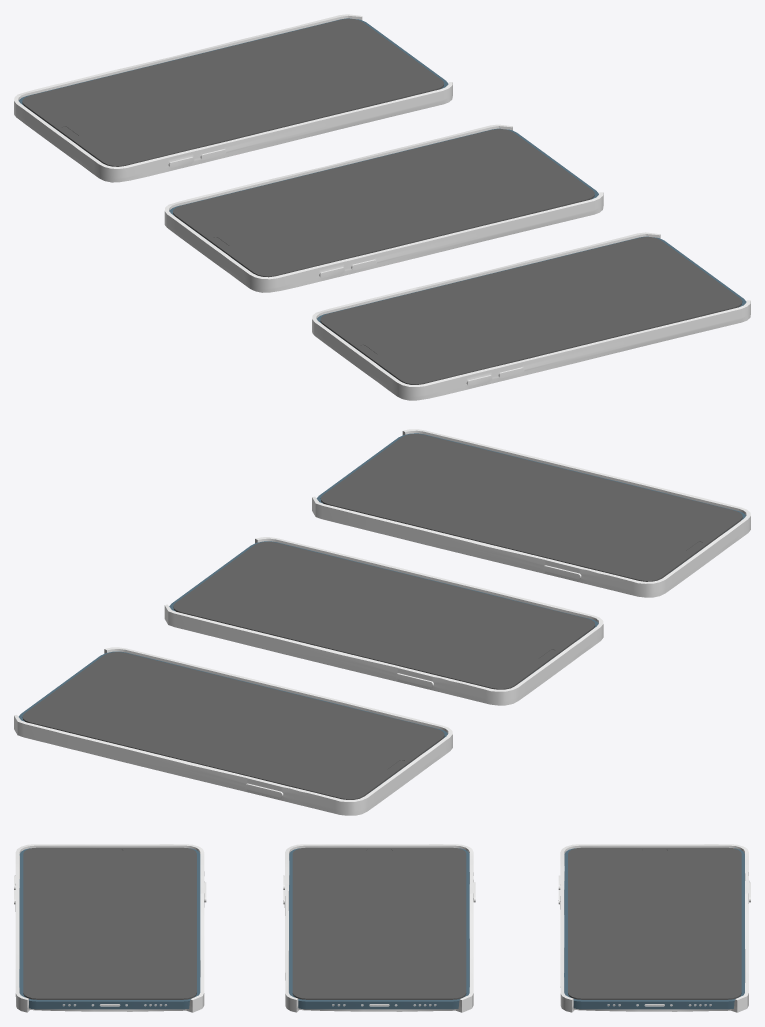
File: phones.fbx
3 renders of one model, top to bottom at view 1: azimuth 30°, elevation 25°; view 2: azimuth 150°, elevation 25°; view 3: azimuth 270°, elevation 25°, orthographic. The views are drawn at different scales.
Parts seen in each view (by area): view 1: youyou_phone, feiyang_phone, feifei_phone; view 2: youyou_phone, feifei_phone, feiyang_phone; view 3: feiyang_phone, youyou_phone, feifei_phone.
Boxes of the visible parts, bbox=[...] form: youyou_phone: bbox=[164, 124, 603, 292]; feiyang_phone: bbox=[312, 232, 750, 400]; feifei_phone: bbox=[14, 14, 452, 182]; youyou_phone: bbox=[164, 537, 603, 705]; feifei_phone: bbox=[14, 647, 452, 815]; feiyang_phone: bbox=[312, 429, 750, 597]; feiyang_phone: bbox=[14, 844, 206, 1012]; youyou_phone: bbox=[283, 844, 475, 1012]; feifei_phone: bbox=[558, 844, 750, 1012].
Bounding box in the file's own units: 15.14 × 0.6199 × 30.23.
